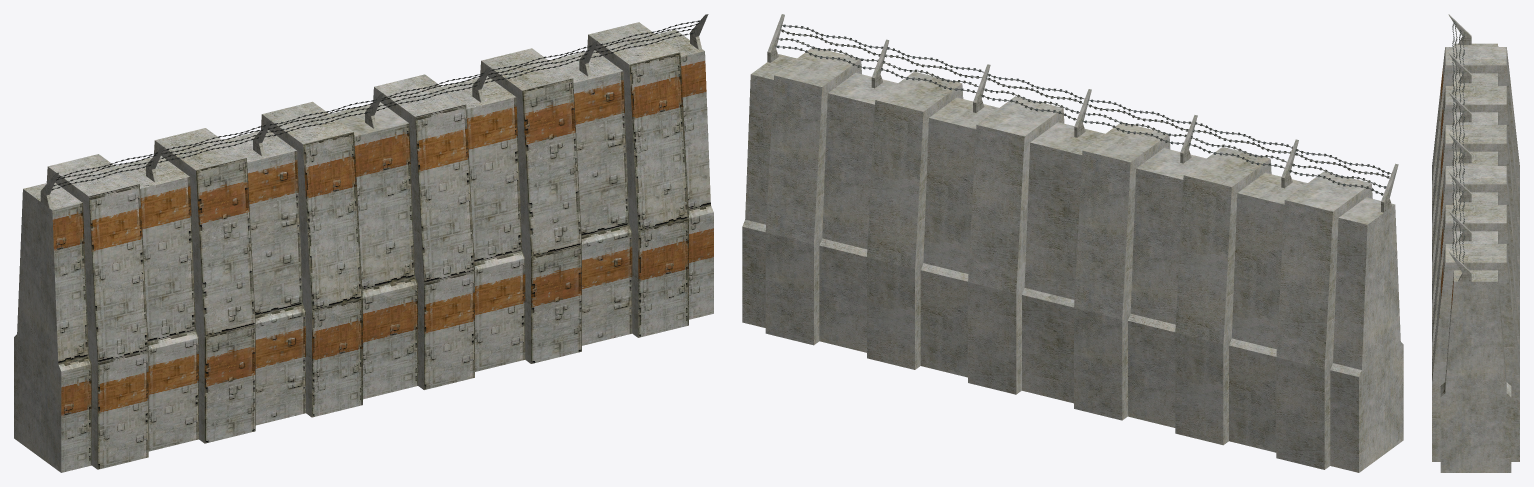
Rendered from mun_all_military_wall_strong_rebl_16_s01_l0.fbx.
The picture shows the model from 3 angles, left to right: view 1: azimuth 30°, elevation 25°; view 2: azimuth 150°, elevation 25°; view 3: azimuth 270°, elevation 25°; orthographic projection. The views are drawn at different scales.
Visible parts, largest first — view 1: mesh_node; view 2: mesh_node; view 3: mesh_node.
Part boxes in pixels (x1=…): mesh_node: x1=14, y1=14, x2=713, y2=472; mesh_node: x1=742, y1=14, x2=1403, y2=472; mesh_node: x1=1432, y1=14, x2=1519, y2=472.
Bounding box in the file's own units: 16 × 6.93 × 2.5.
